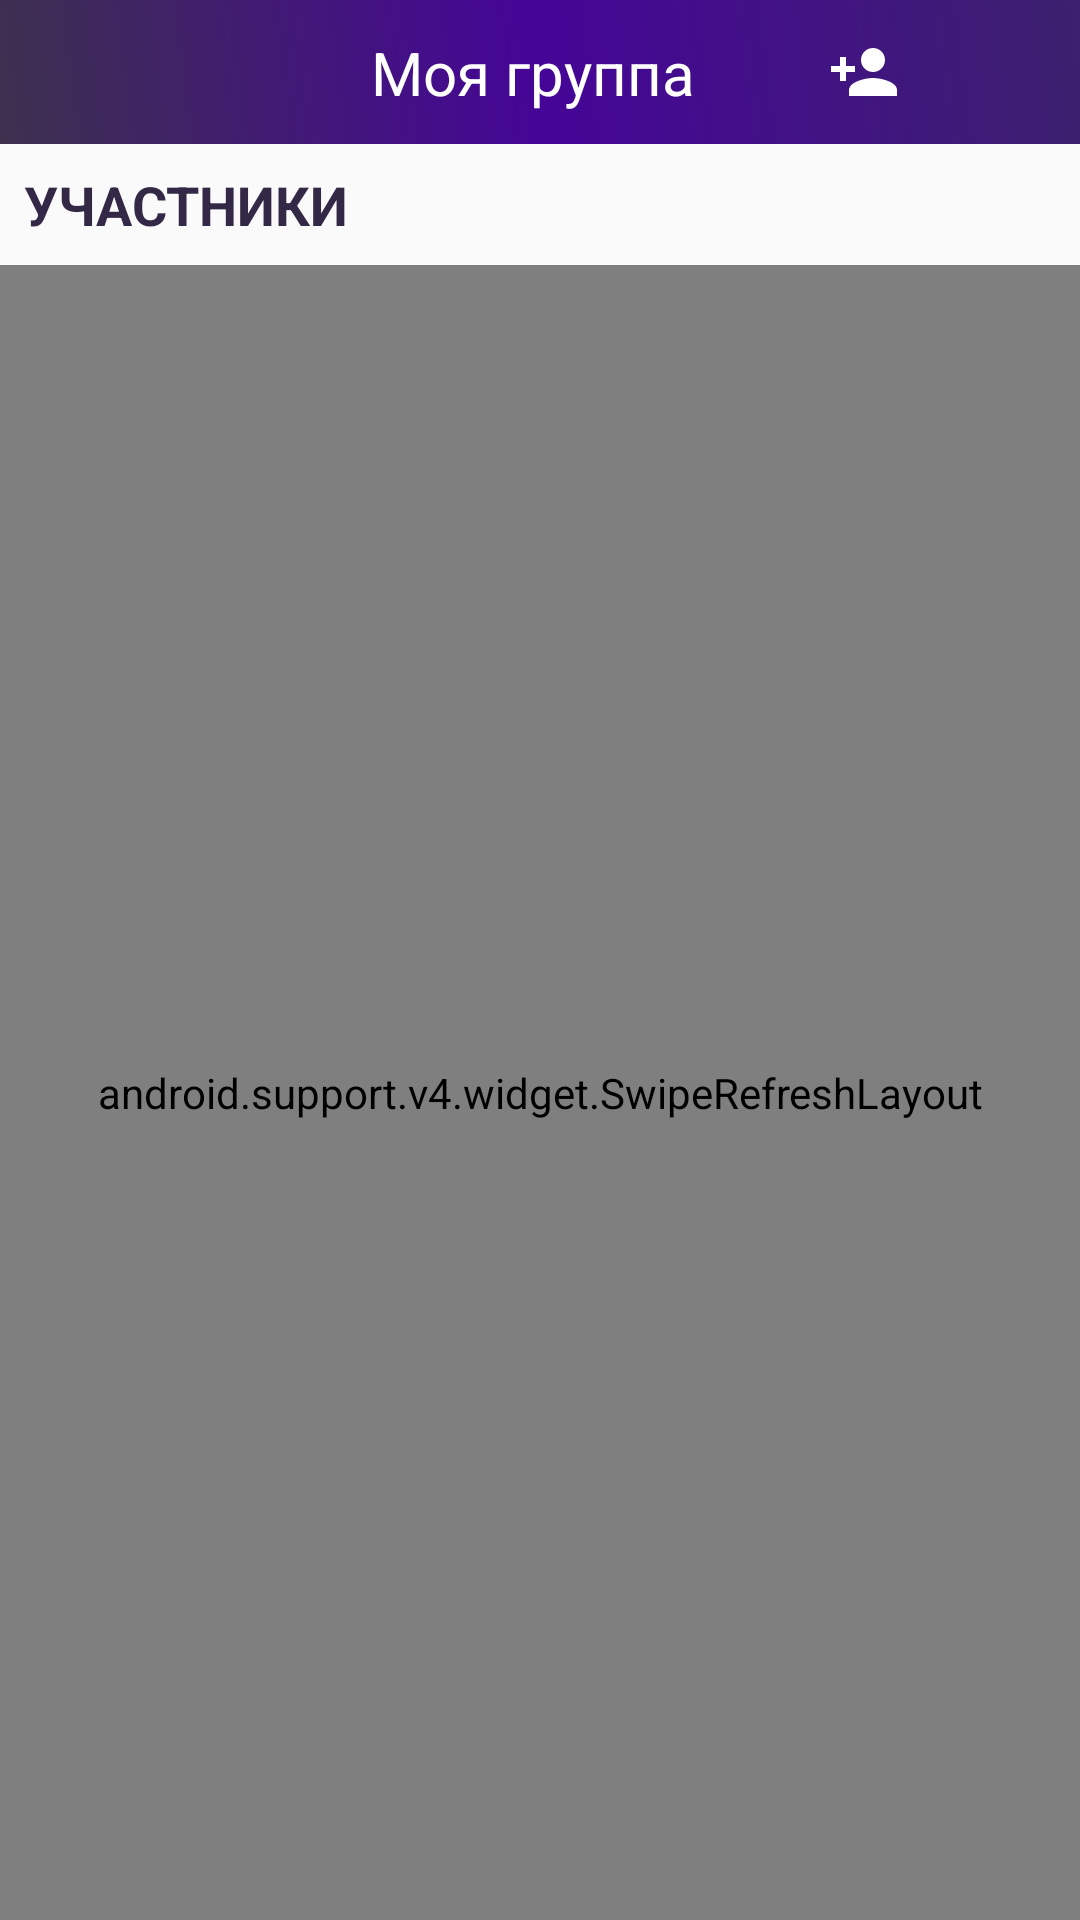

Screen size 1080px x 1920px. Icon name, then its box in pixels as {"left": x1, "top": y1, "right": x2, "bottom": y2}:
person add: {"left": 831, "top": 48, "right": 897, "bottom": 96}
